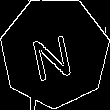N_N: (31, 23, 79, 81)
